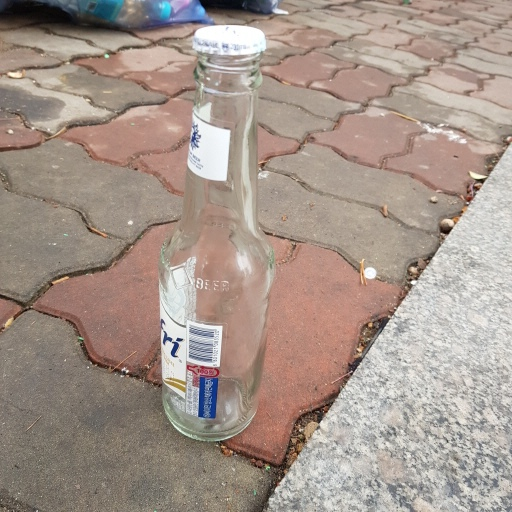Glass_1: (151, 24, 281, 443)
